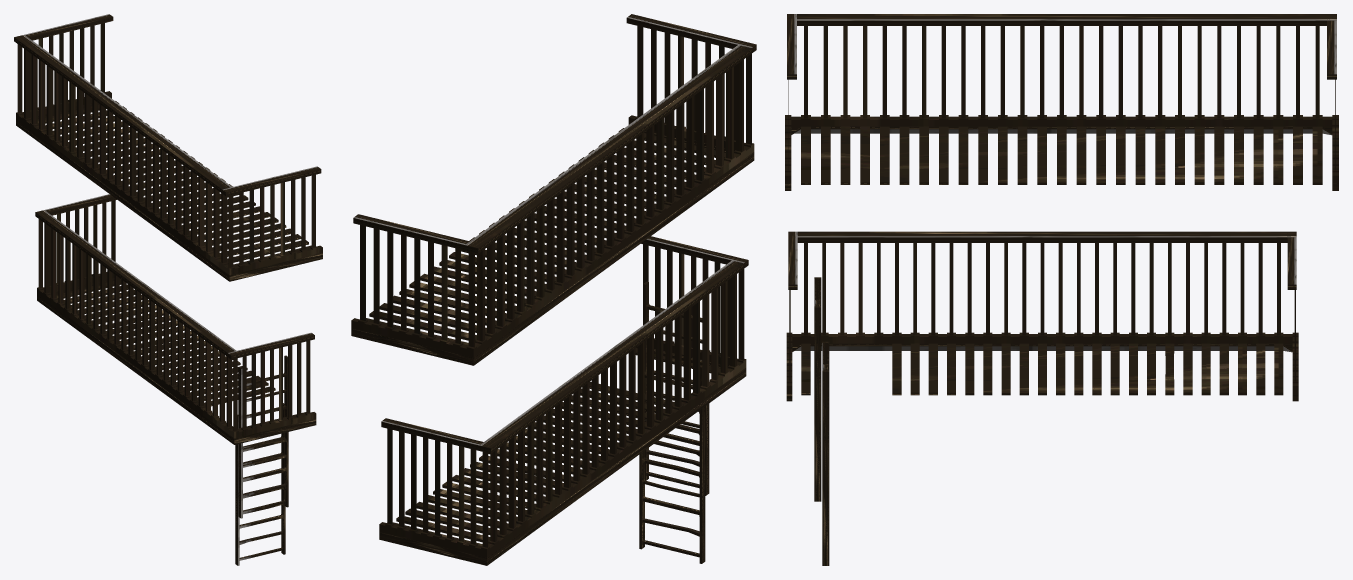
Rendered from SM_fireEscape.fbx.
3 views of the same model, side by side, from view 1: azimuth 30°, elevation 25°; view 2: azimuth 150°, elevation 25°; view 3: azimuth 270°, elevation 25° (orthographic). The views are drawn at different scales.
Visible parts, largest first — view 1: SM_fe2; view 2: SM_fe2; view 3: SM_fe2.
Part boxes in pixels (left/top/right/bottom): SM_fe2: left=14, top=14, right=322, bottom=565; SM_fe2: left=351, top=14, right=756, bottom=565; SM_fe2: left=785, top=14, right=1338, bottom=565.
Size of the model in its own units: 134 by 521 by 517.
